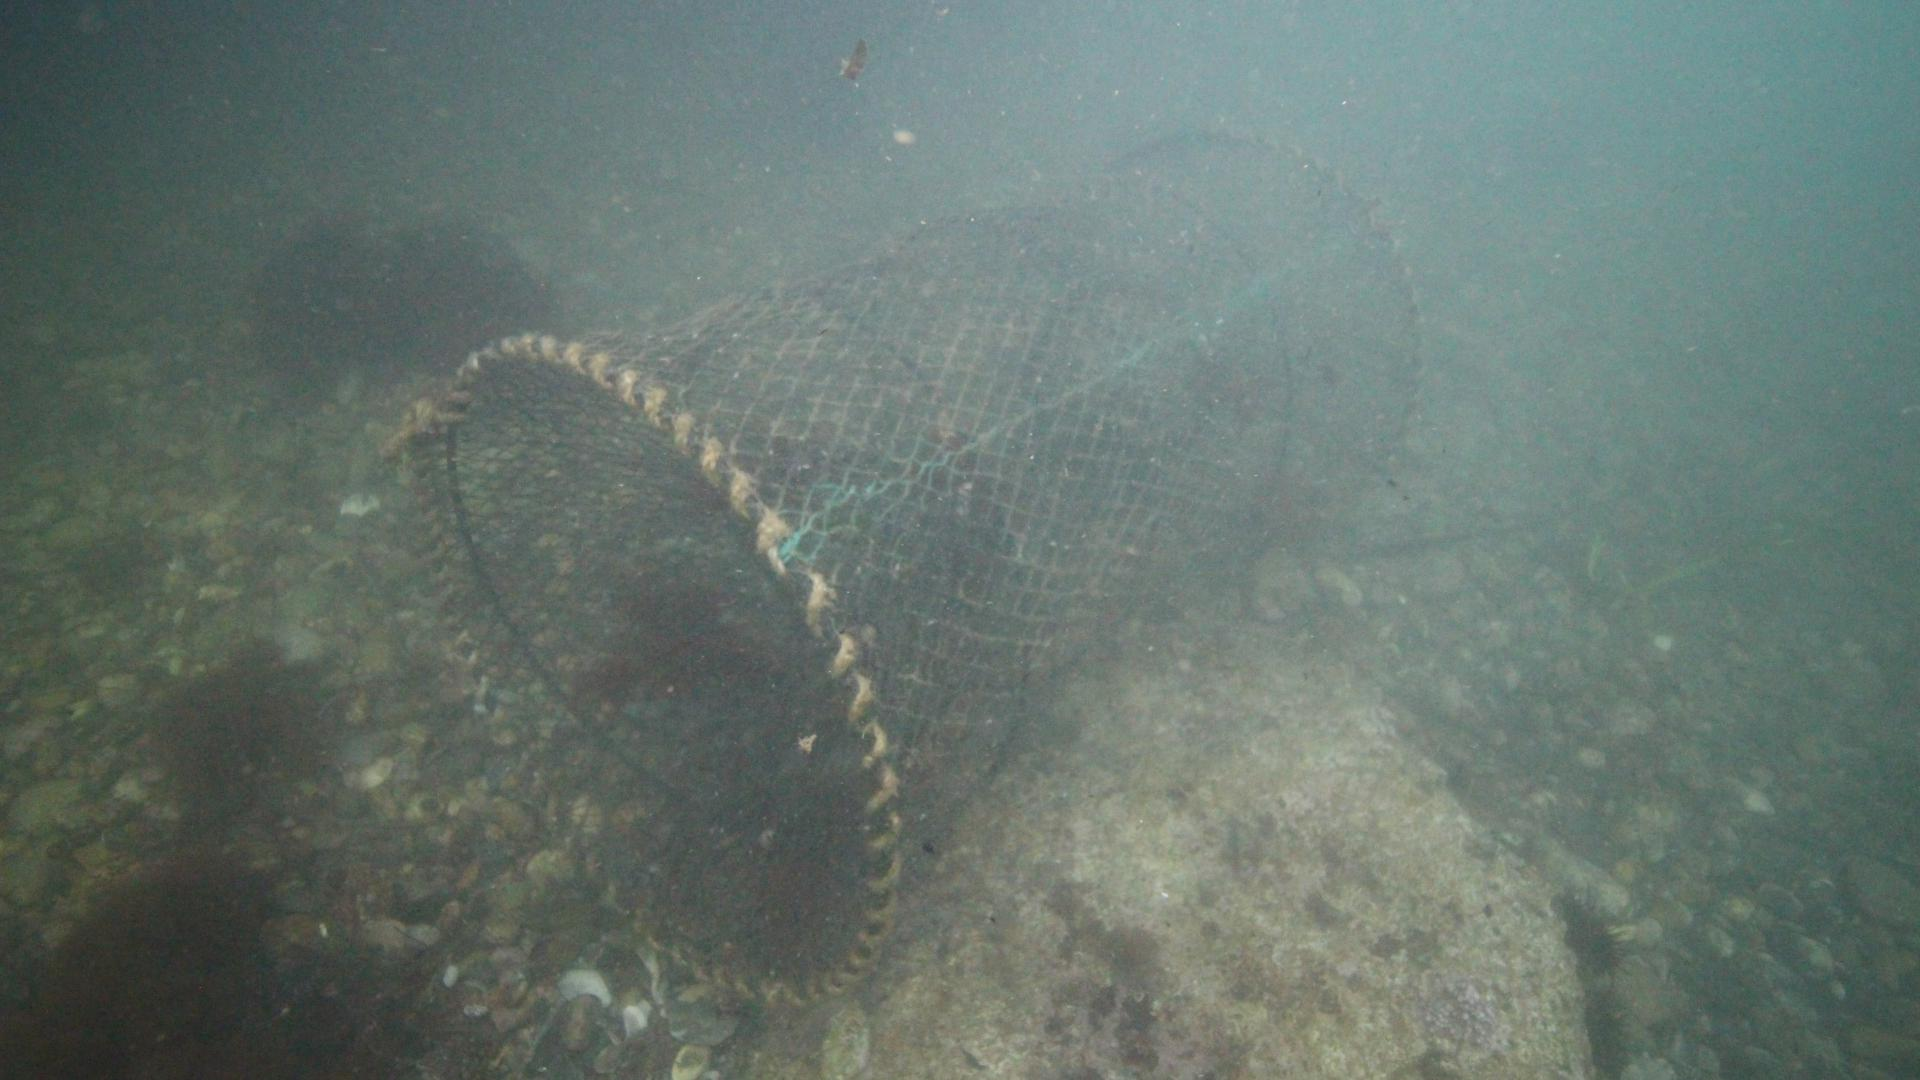spring fish trap: (404, 121, 1423, 1011)
